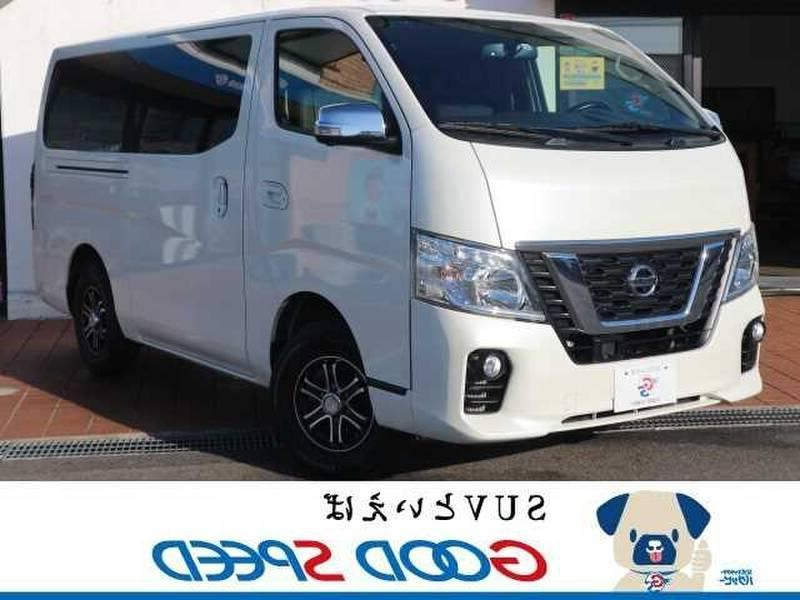van: (22, 10, 772, 438)
